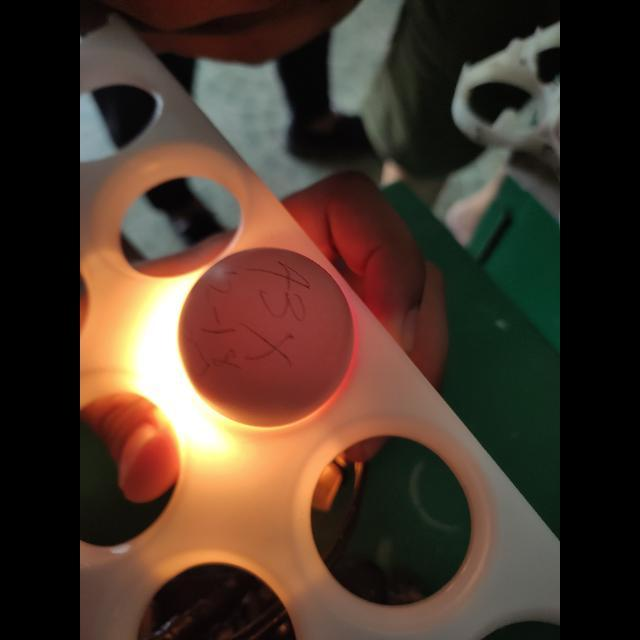Fertile: (170, 242, 352, 423)
